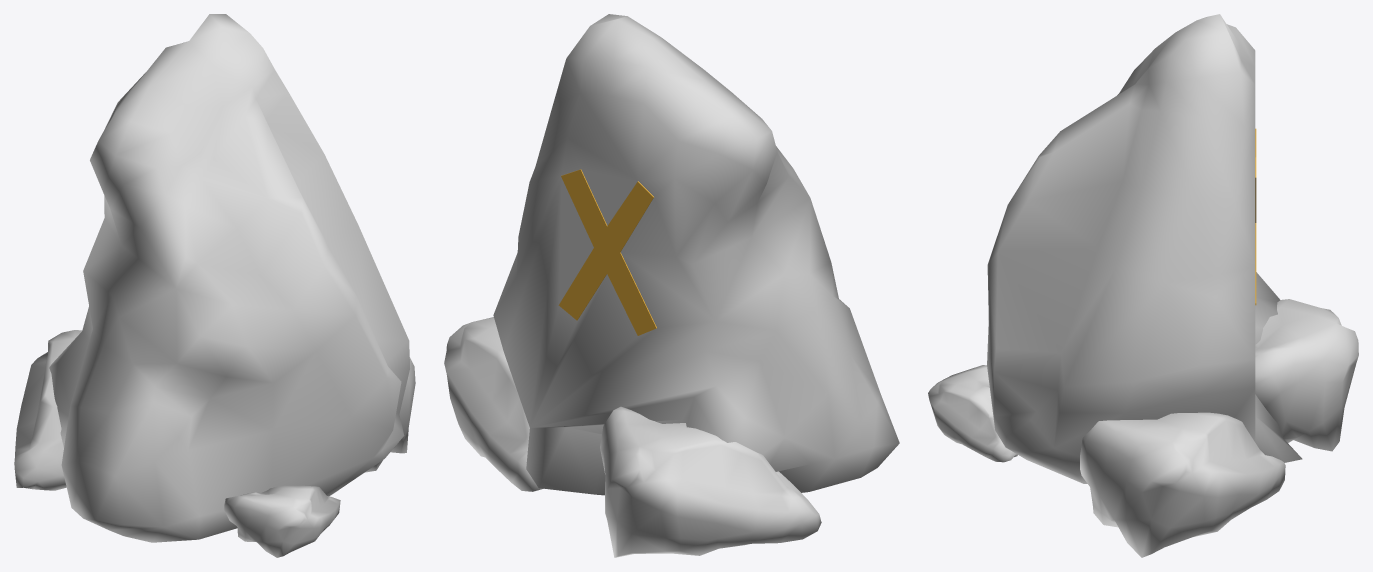
Rendered from Gebo.fbx.
The picture shows the model from 3 angles, left to right: view 1: azimuth 30°, elevation 25°; view 2: azimuth 150°, elevation 25°; view 3: azimuth 270°, elevation 25°; orthographic projection. The views are drawn at different scales.
Parts seen in each view (by area): view 1: uploads_files_4276670_stone_small; view 2: uploads_files_4276670_stone_small, Gebo; view 3: uploads_files_4276670_stone_small.
Boxes of the visible parts, left/top/right/bottom form: uploads_files_4276670_stone_small: left=14, top=14, right=415, bottom=557; uploads_files_4276670_stone_small: left=444, top=14, right=899, bottom=557; Gebo: left=558, top=169, right=656, bottom=335; uploads_files_4276670_stone_small: left=928, top=14, right=1358, bottom=557.
Size of the model in its own units: 155 by 181 by 152.
